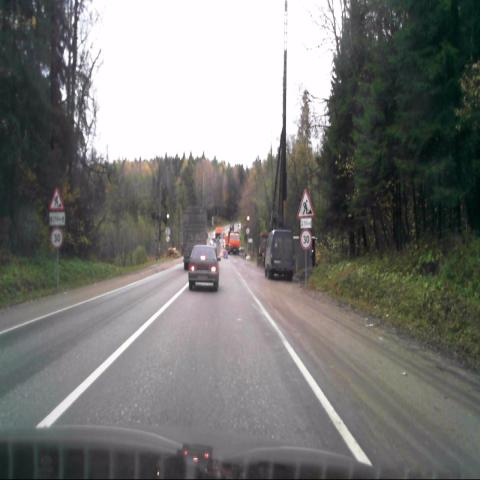1_25: (296, 189, 316, 218), (48, 187, 64, 210)
